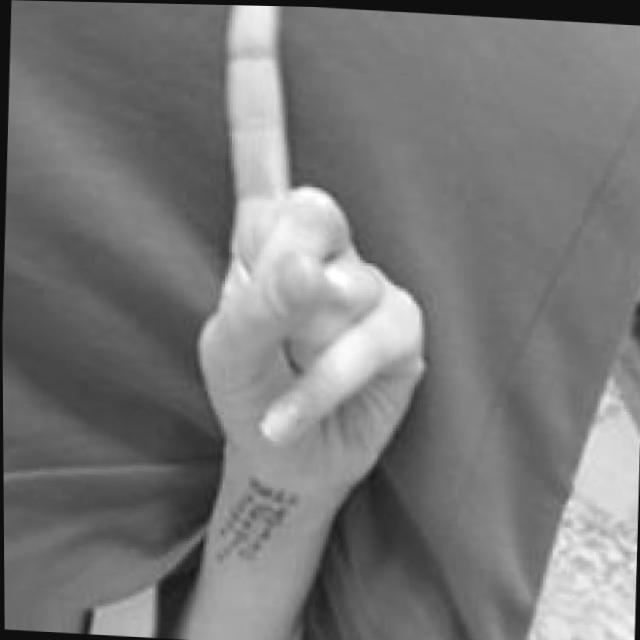I: (183, 4, 442, 502)
